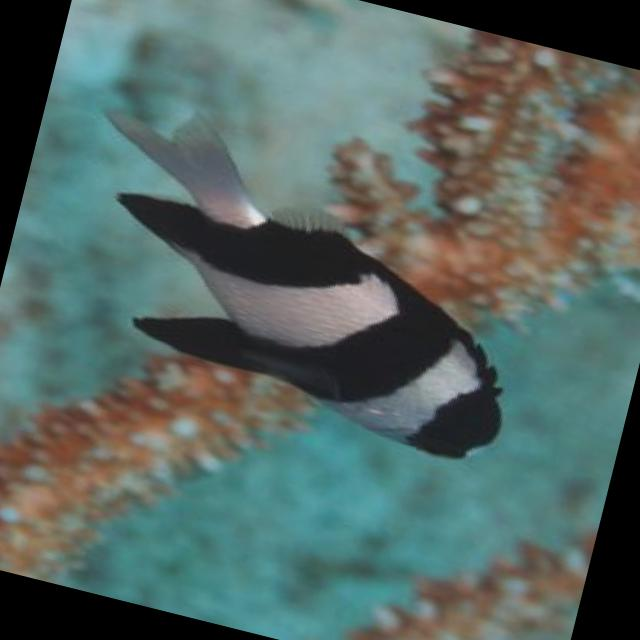ThreeStripedDamselfish: (106, 111, 501, 461)
